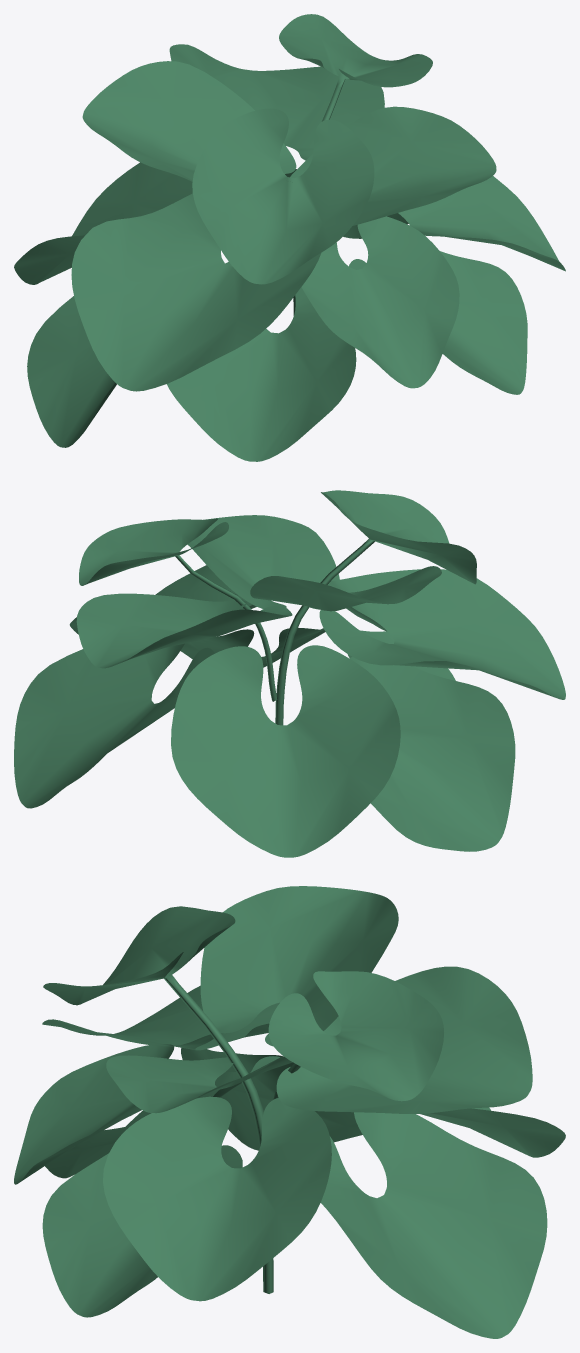
File: Leaf-Bundle-S02A.fbx
3 renders of one model, top to bottom at view 1: azimuth 30°, elevation 25°; view 2: azimuth 150°, elevation 25°; view 3: azimuth 270°, elevation 25°, orthographic. The views are drawn at different scales.
Parts seen in each view (by area): view 1: Leaf-Bundle-S02A; view 2: Leaf-Bundle-S02A; view 3: Leaf-Bundle-S02A.
Part boxes in pixels (x1,y1,x2,y2): Leaf-Bundle-S02A: [14, 14, 565, 461]; Leaf-Bundle-S02A: [14, 490, 565, 857]; Leaf-Bundle-S02A: [14, 886, 565, 1338].
Size of the model in its own units: 151 by 95.29 by 141.
